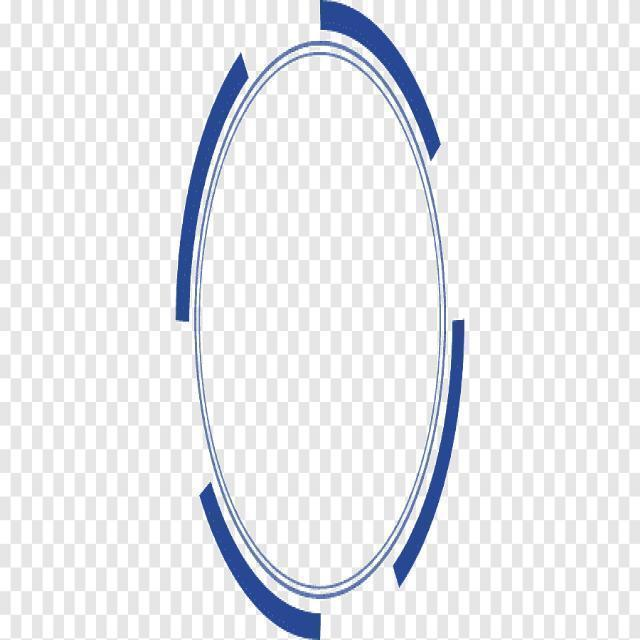Circle: (170, 1, 465, 640)
